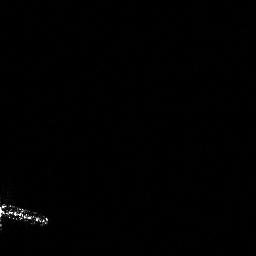ship: (1, 199, 51, 231)
